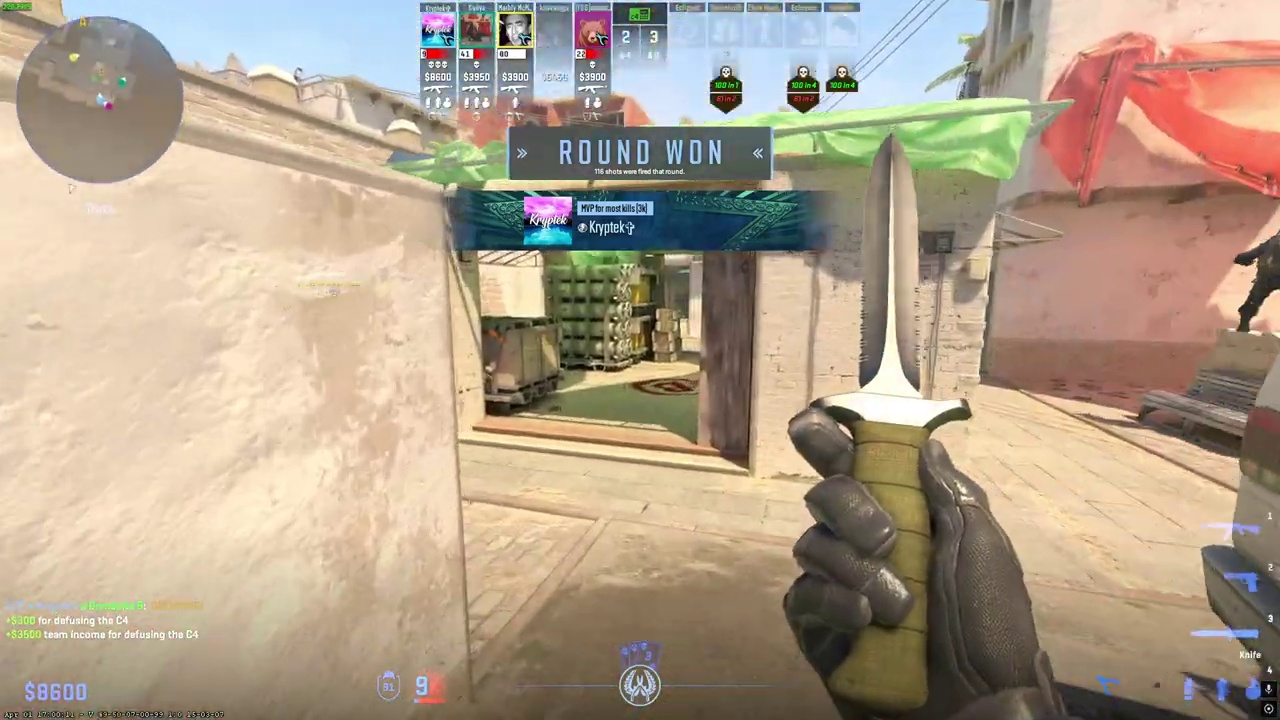CT: (1237, 228, 1280, 332)
